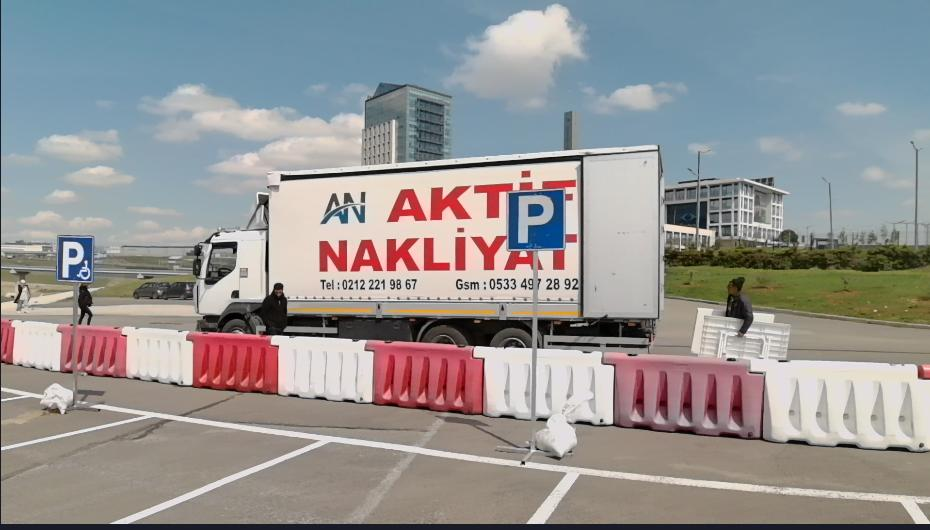nesne: (1, 315, 928, 451), (0, 387, 928, 504), (112, 434, 586, 526), (2, 412, 342, 526), (526, 466, 929, 524), (749, 357, 929, 451), (602, 350, 760, 439), (472, 345, 613, 425), (365, 340, 482, 415), (272, 335, 374, 403), (186, 330, 277, 394), (120, 326, 191, 386), (503, 187, 566, 251), (56, 324, 124, 378), (12, 320, 60, 371), (533, 415, 578, 459), (723, 271, 754, 334), (56, 234, 94, 282), (257, 280, 289, 332), (38, 380, 74, 416), (12, 277, 31, 313), (0, 317, 12, 365)
